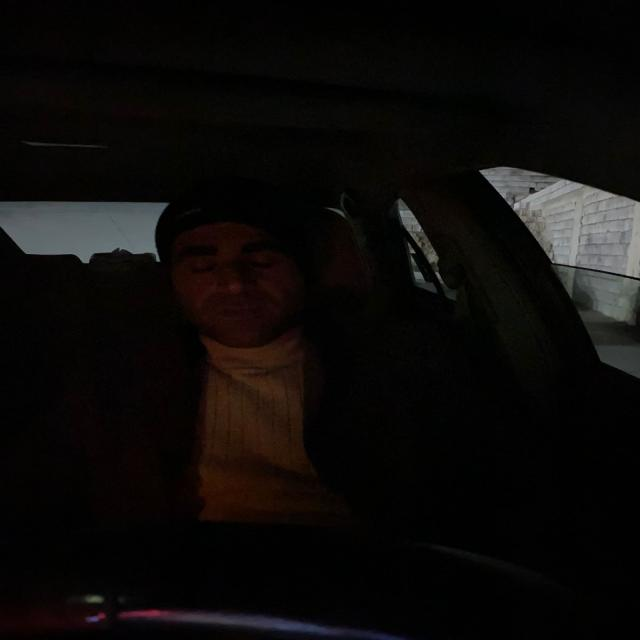drowsy: (152, 190, 322, 352)
